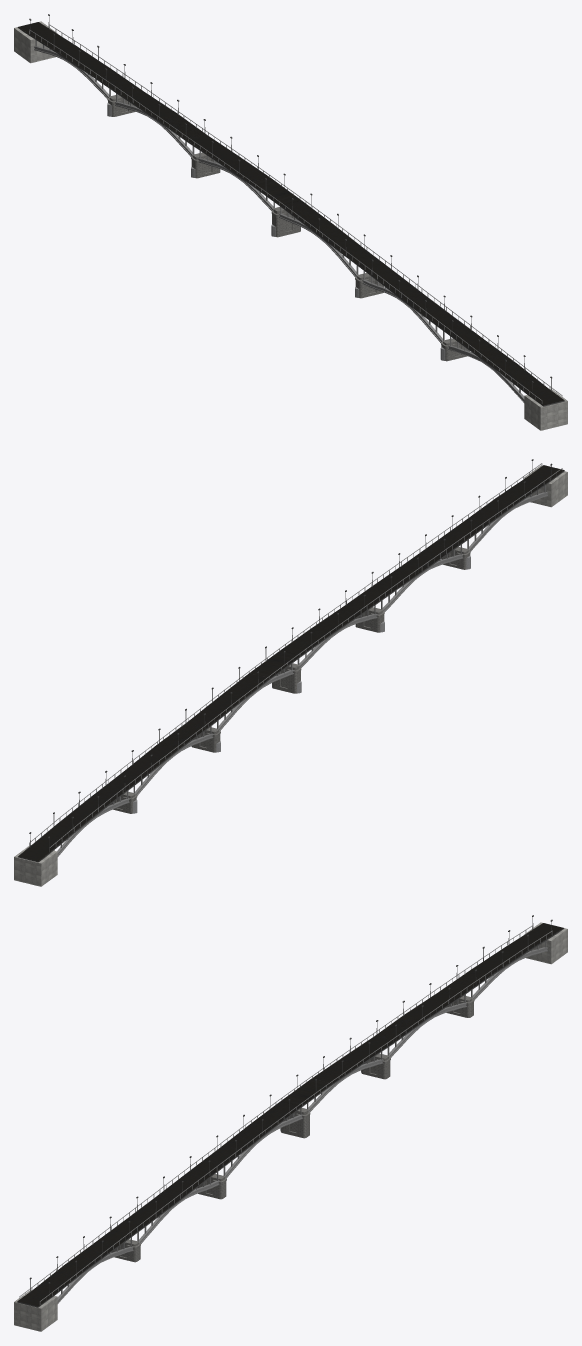
Rendered from bridge.glb.
The picture shows the model from 3 angles, top to bottom: view 1: azimuth 30°, elevation 25°; view 2: azimuth 150°, elevation 25°; view 3: azimuth 330°, elevation 25°; orthographic projection.
Visible parts, largest first — view 1: Cube.008, Cube.001, Cube.016, Cylinder; view 2: Cube.008, Cube.001, Cube.016, Cylinder; view 3: Cube.008, Cube.001, Cube.016, Cylinder.
Boxes of the visible parts, bbox=[...] form: Cube.008: bbox=[17, 22, 564, 406]; Cube.001: bbox=[14, 21, 567, 430]; Cube.016: bbox=[29, 24, 562, 400]; Cylinder: bbox=[29, 14, 552, 395]; Cube.008: bbox=[18, 465, 564, 862]; Cube.001: bbox=[14, 465, 567, 886]; Cube.016: bbox=[29, 463, 562, 847]; Cylinder: bbox=[29, 459, 552, 851]; Cube.008: bbox=[17, 923, 564, 1307]; Cube.001: bbox=[14, 922, 567, 1331]; Cube.016: bbox=[19, 925, 552, 1301]; Cylinder: bbox=[29, 915, 552, 1296].
Size of the model in its own units: 9 by 16.01 by 288.
4 materials, 2 textured.
